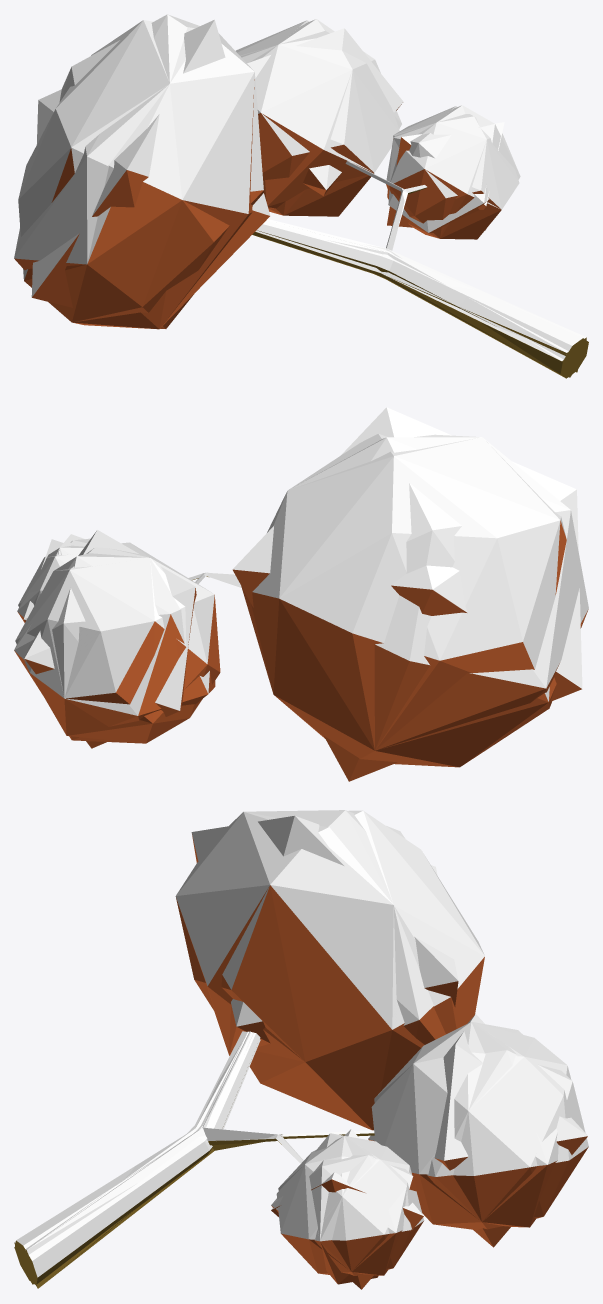
Rendered from Branch_12_Snowy.fbx.
The picture shows the model from 3 angles, top to bottom: view 1: azimuth 30°, elevation 25°; view 2: azimuth 150°, elevation 25°; view 3: azimuth 270°, elevation 25°; orthographic projection. The views are drawn at different scales.
Parts seen in each view (by area): view 1: Branch 12_LOD0_Snowy, Branch 12_LOD2_Snowy, Branch 12_LOD3_Snowy, Branch 12_LOD1_Snowy; view 2: Branch 12_LOD0_Snowy, Branch 12_LOD2_Snowy, Branch 12_LOD3_Snowy, Branch 12_LOD1_Snowy; view 3: Branch 12_LOD0_Snowy, Branch 12_LOD2_Snowy, Branch 12_LOD3_Snowy, Branch 12_LOD1_Snowy.
Boxes of the visible parts, left/top/right/bottom form: Branch 12_LOD0_Snowy: left=18, top=20, right=588, bottom=378; Branch 12_LOD2_Snowy: left=14, top=14, right=577, bottom=372; Branch 12_LOD3_Snowy: left=31, top=19, right=504, bottom=328; Branch 12_LOD1_Snowy: left=255, top=105, right=586, bottom=377; Branch 12_LOD0_Snowy: left=15, top=433, right=587, bottom=767; Branch 12_LOD2_Snowy: left=14, top=437, right=588, bottom=750; Branch 12_LOD3_Snowy: left=23, top=407, right=582, bottom=781; Branch 12_LOD1_Snowy: left=17, top=545, right=204, bottom=622; Branch 12_LOD0_Snowy: left=14, top=810, right=588, bottom=1285; Branch 12_LOD2_Snowy: left=14, top=810, right=588, bottom=1288; Branch 12_LOD3_Snowy: left=37, top=815, right=587, bottom=1289; Branch 12_LOD1_Snowy: left=14, top=1032, right=406, bottom=1284.
Size of the model in its own units: 139 by 85.47 by 128.
